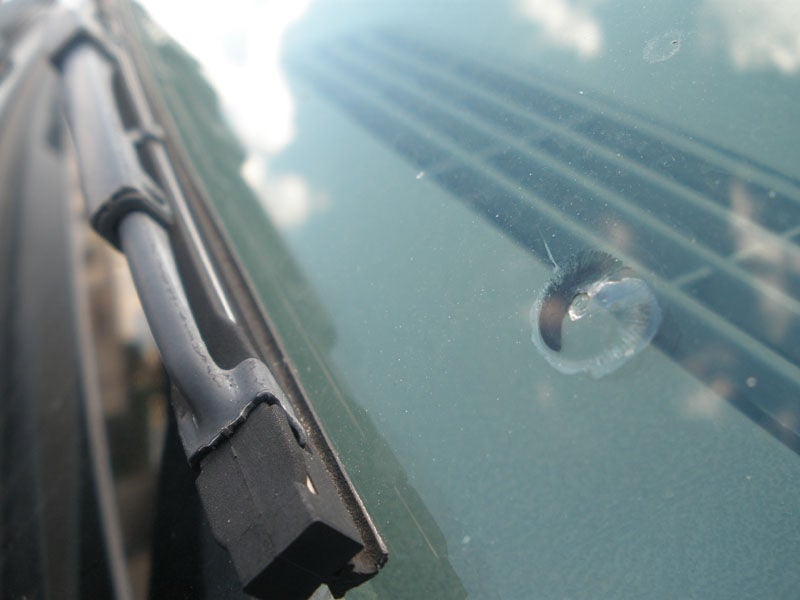bullseye: (499, 223, 693, 396)
